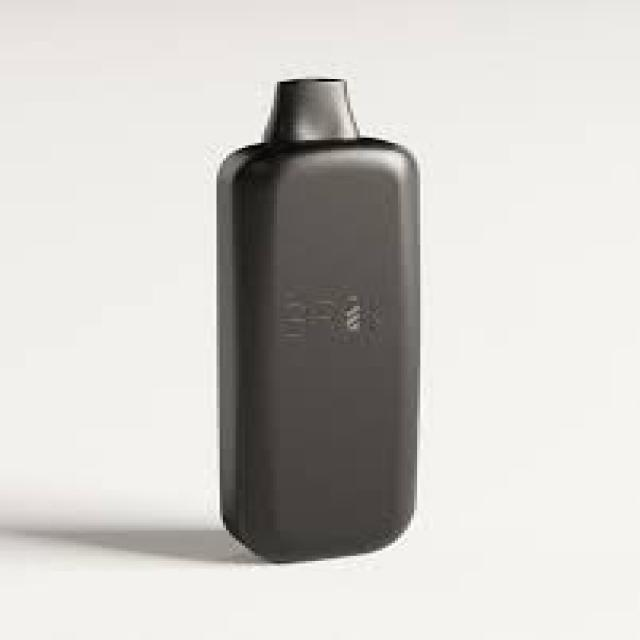power_bank: (209, 64, 430, 568)
